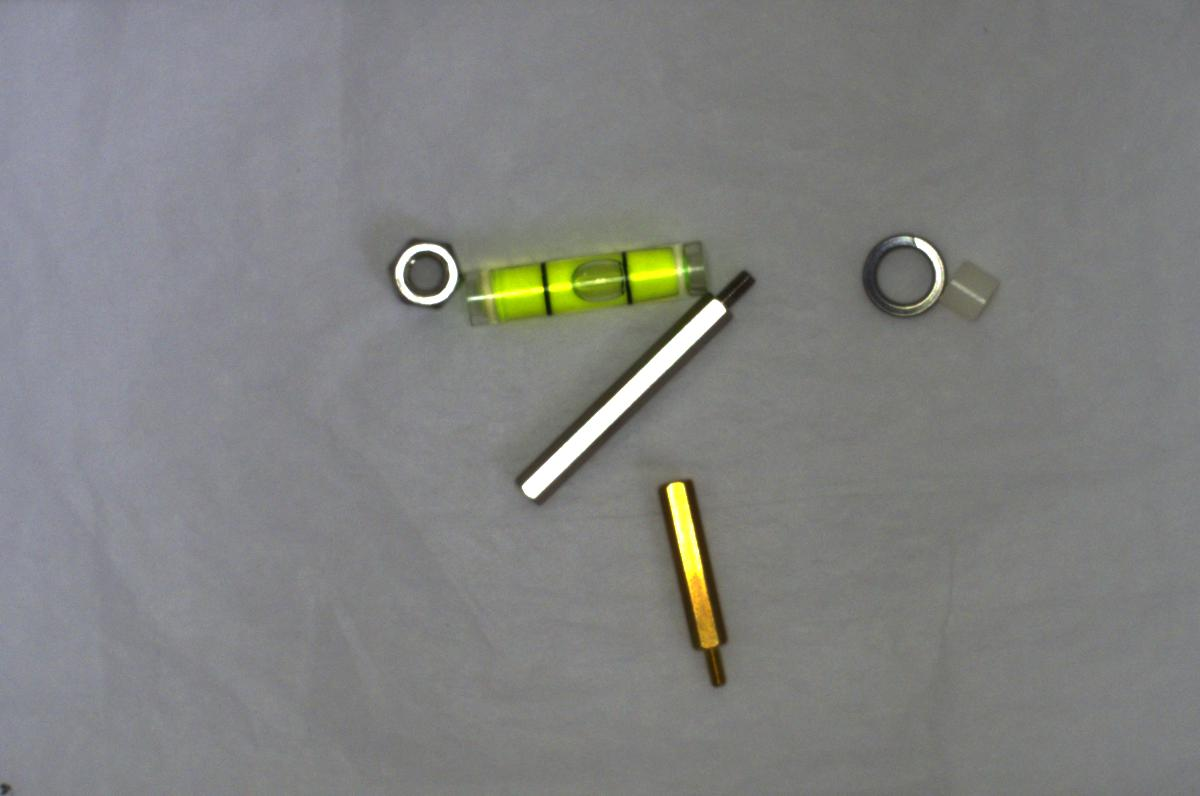Hexagon nut: (374, 229, 465, 312)
Hexagon pillar: (650, 470, 732, 688)
Hexagonal steel column: (473, 266, 762, 503)
Horizontal bubble: (466, 236, 711, 328)
Plastic cushion pillar: (940, 259, 1007, 326)
Spring washer: (844, 229, 948, 323)
